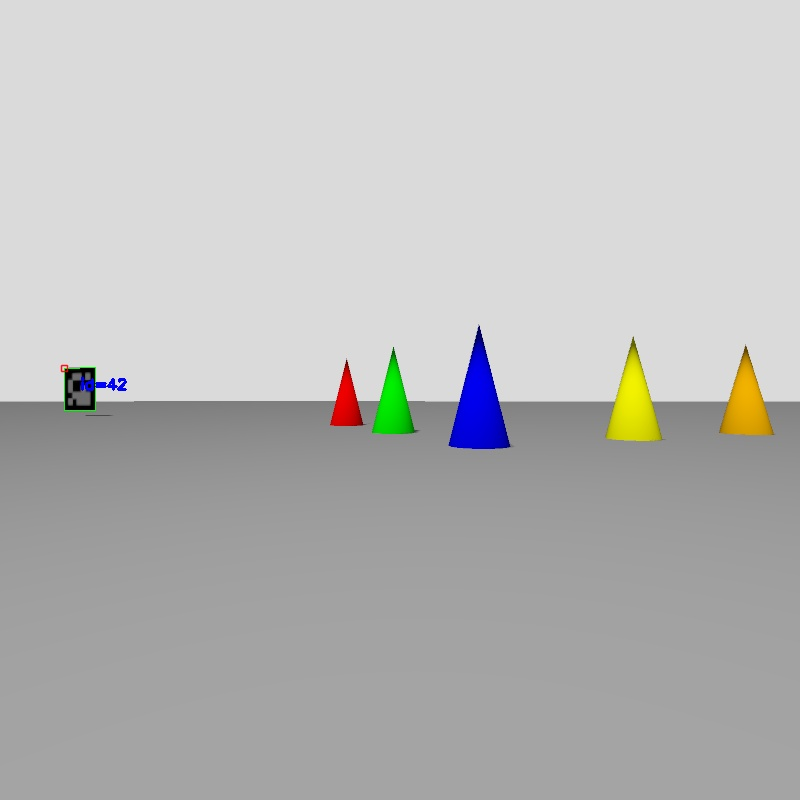Blue_cone: (450, 327, 510, 449)
Green_cone: (374, 348, 414, 433)
Orange_cone: (719, 346, 773, 434)
Red_cone: (330, 360, 363, 426)
Yellow_cone: (606, 338, 661, 439)
